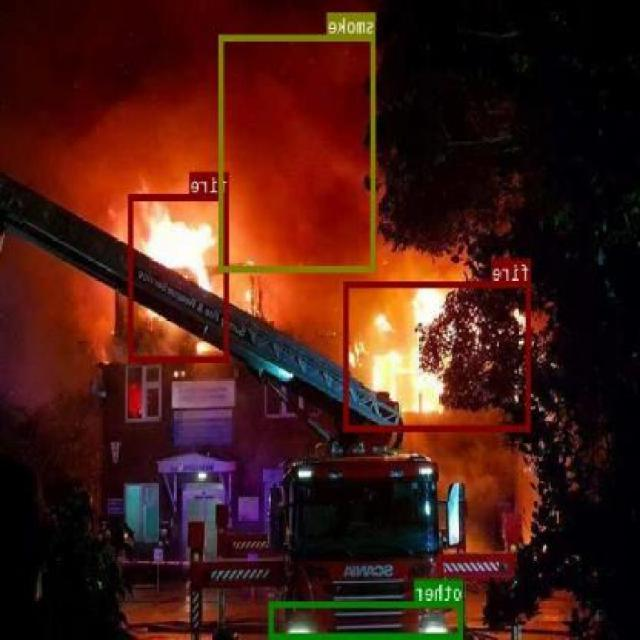Fire: (346, 280, 532, 431), (130, 192, 230, 362)
Smoke: (220, 35, 377, 272)
